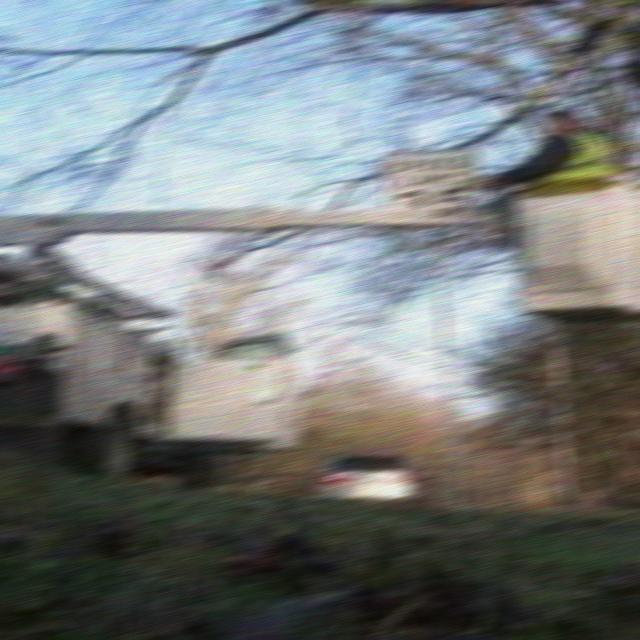speedLimit35: (382, 151, 482, 236)
